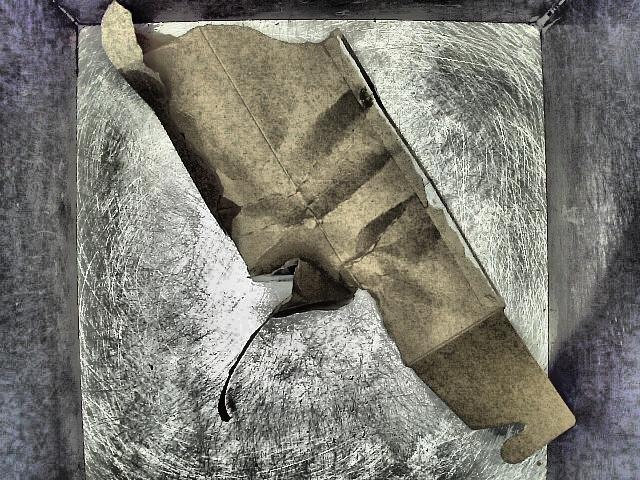Paper: (18, 15, 603, 480)
